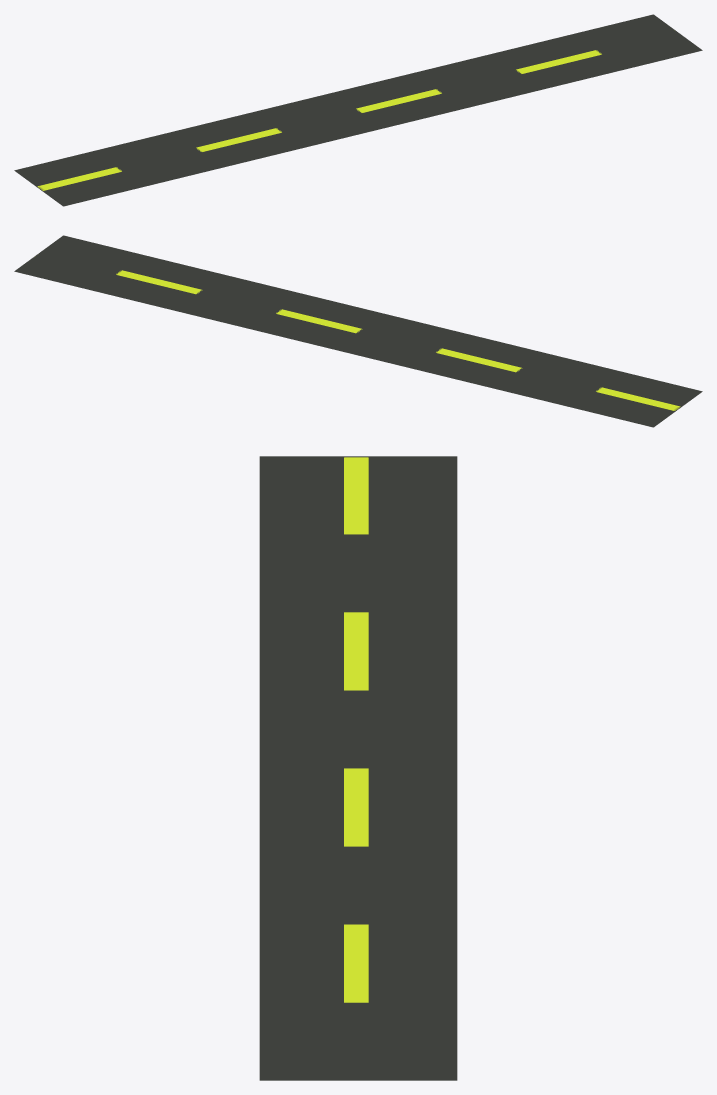
The model's file is suelo.fbx.
3 views of the same model, one above another, from view 1: azimuth 30°, elevation 25°; view 2: azimuth 150°, elevation 25°; view 3: azimuth 270°, elevation 25° (orthographic). The views are drawn at different scales.
Visible parts, largest first — view 1: Plane; view 2: Plane; view 3: Plane.
Boxes of the visible parts, box(x1,y1,x2,y2) form: Plane: box(14, 14, 702, 206); Plane: box(14, 235, 702, 427); Plane: box(259, 456, 457, 1080).
Bounding box in the file's own units: 1496 × 3.26e-05 × 200.
